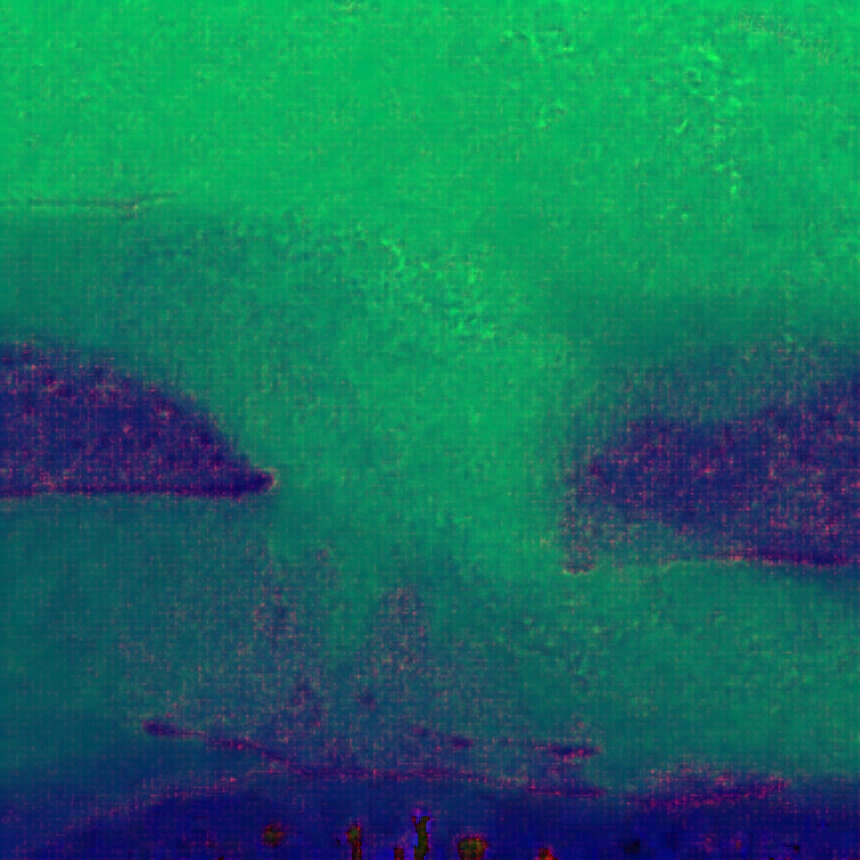rip_current: (75, 152, 625, 727)
